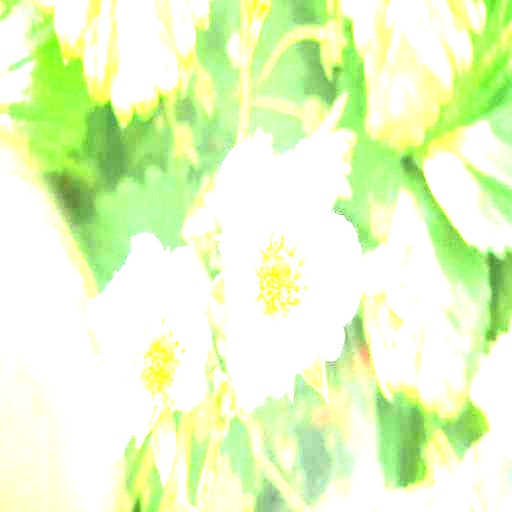Blossom Blight: (120, 301, 190, 416)
